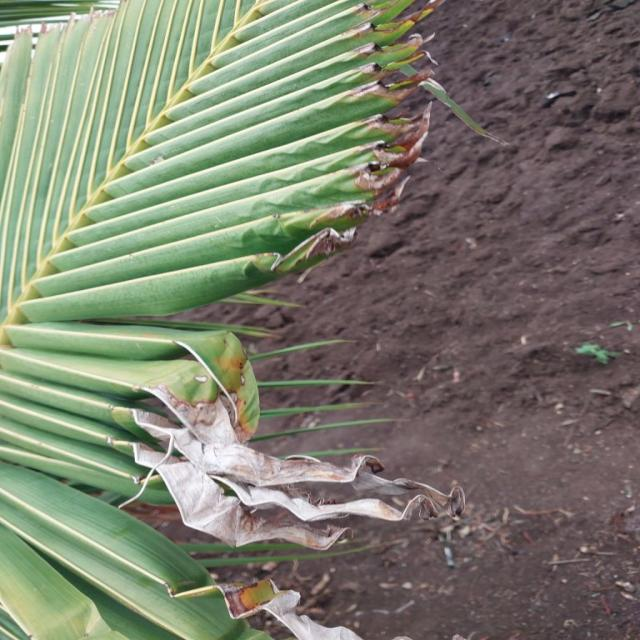leaf rot: (78, 353, 480, 567), (267, 0, 446, 311)
